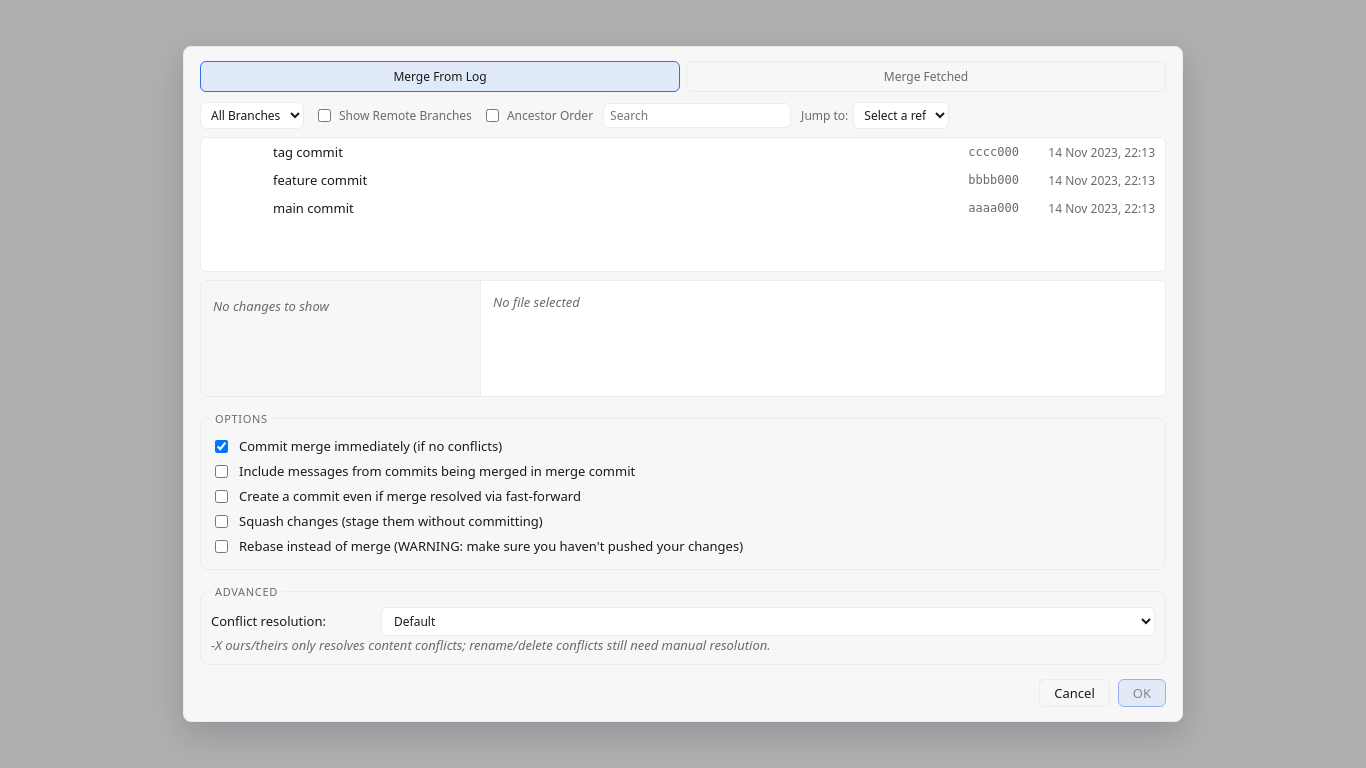
Test: MergeWindow › disables the commit flags while squashing
Check: the button "feature commit bbbb000 14 Nov 2023, 22:13" is shown, box [201,166,1165,194]
Click the checkbox labelled "Squash changes (stage them without committing)" at x=222, y=521, box [215,515,228,528]
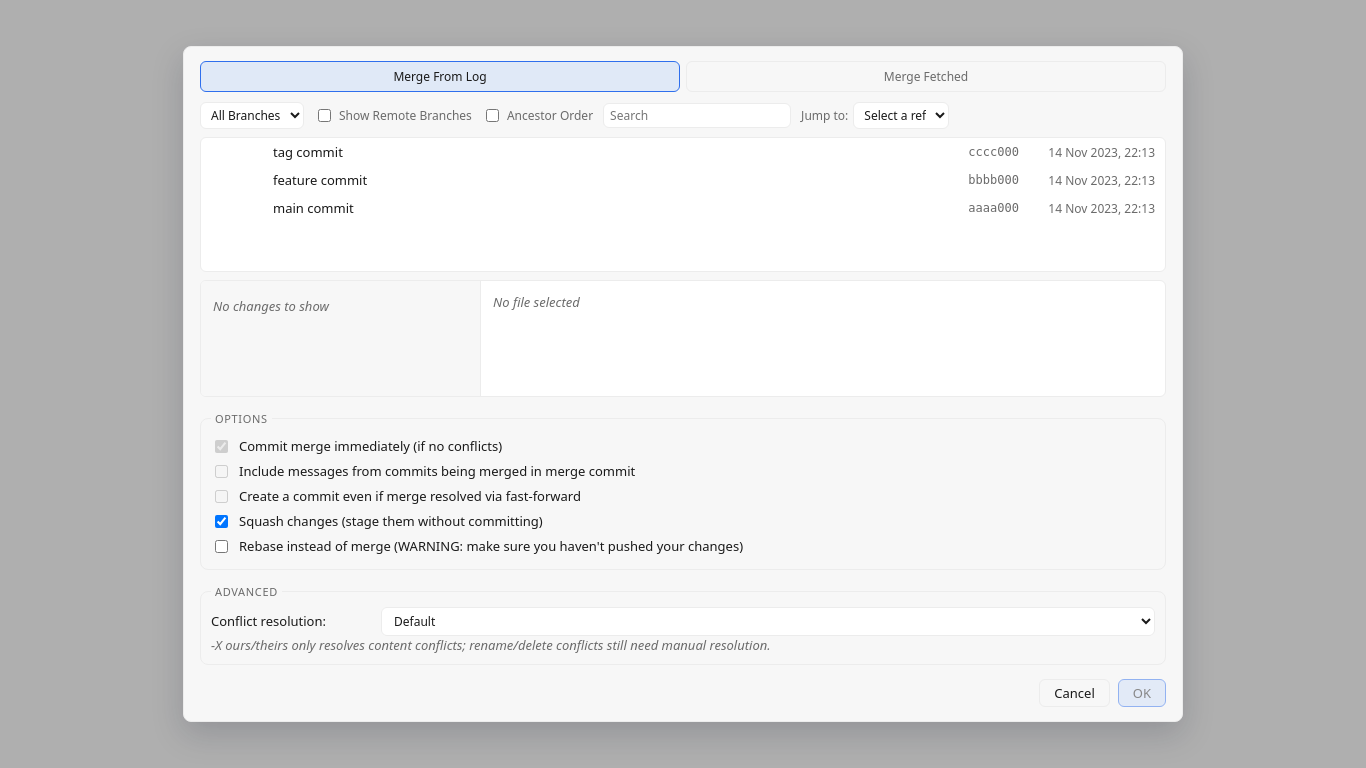
Check: the checkbox labelled "Commit merge immediately (if no conflicts)" is disabled, box [215,440,228,453]
